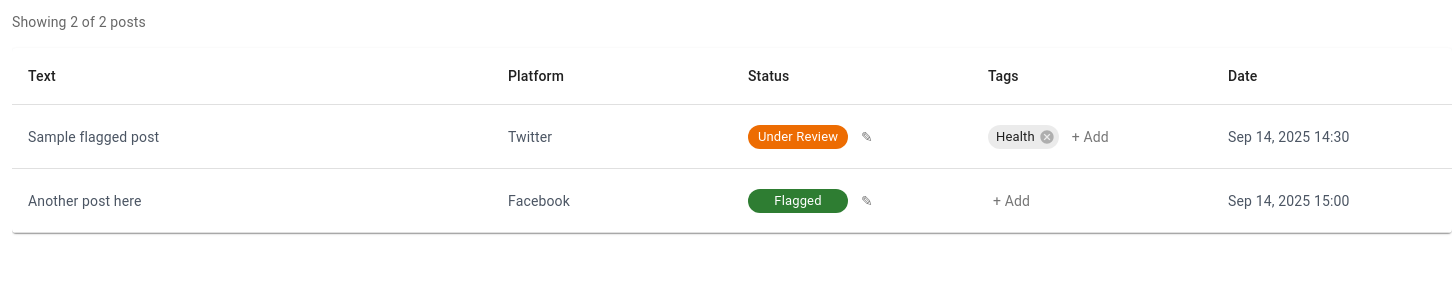
Test: PostsTable - Status inline editing › opens menu only when clicking the edit button and updates optimistically on select (success)
The width and height of the screenshot is (1452, 306).
Note: Open menu via edit button
Click the button named "edit status": (867, 136) [856,122,878,152]
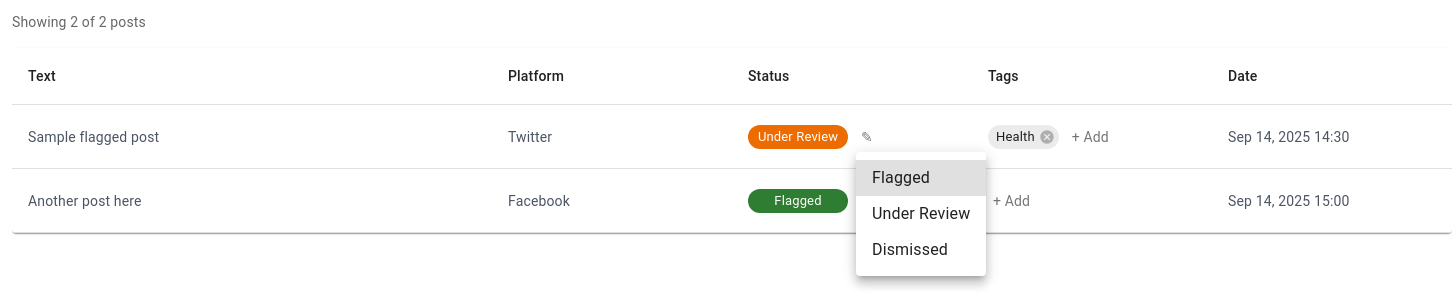
Check: the menu item "Flagged" is shown
Check: the menu item "Dismissed" is shown, box [872,240,948,259]
Check: the menu item "Under Review" is shown, box [872,204,970,223]
Note: Select Flagged
Click the menu item "Flagged": (921, 178) [856,160,986,196]
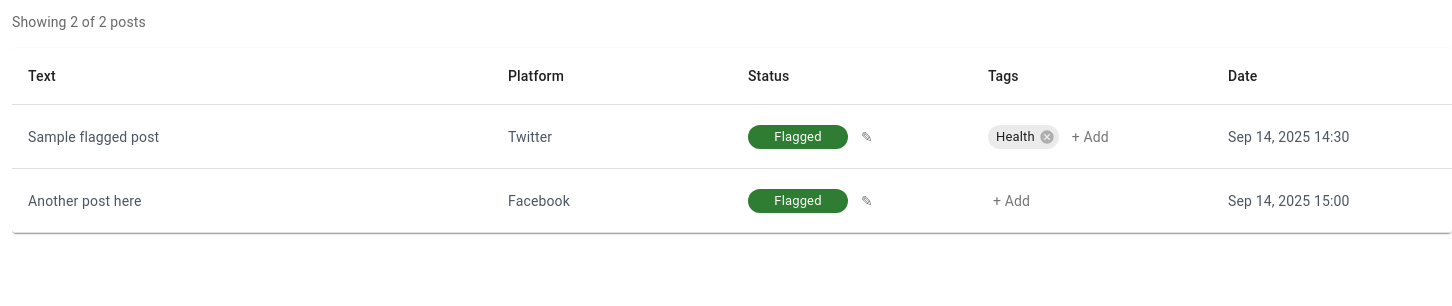
Check: the text "Flagged" in the row of "Sample flagged post" is shown, box [774,129,822,144]
